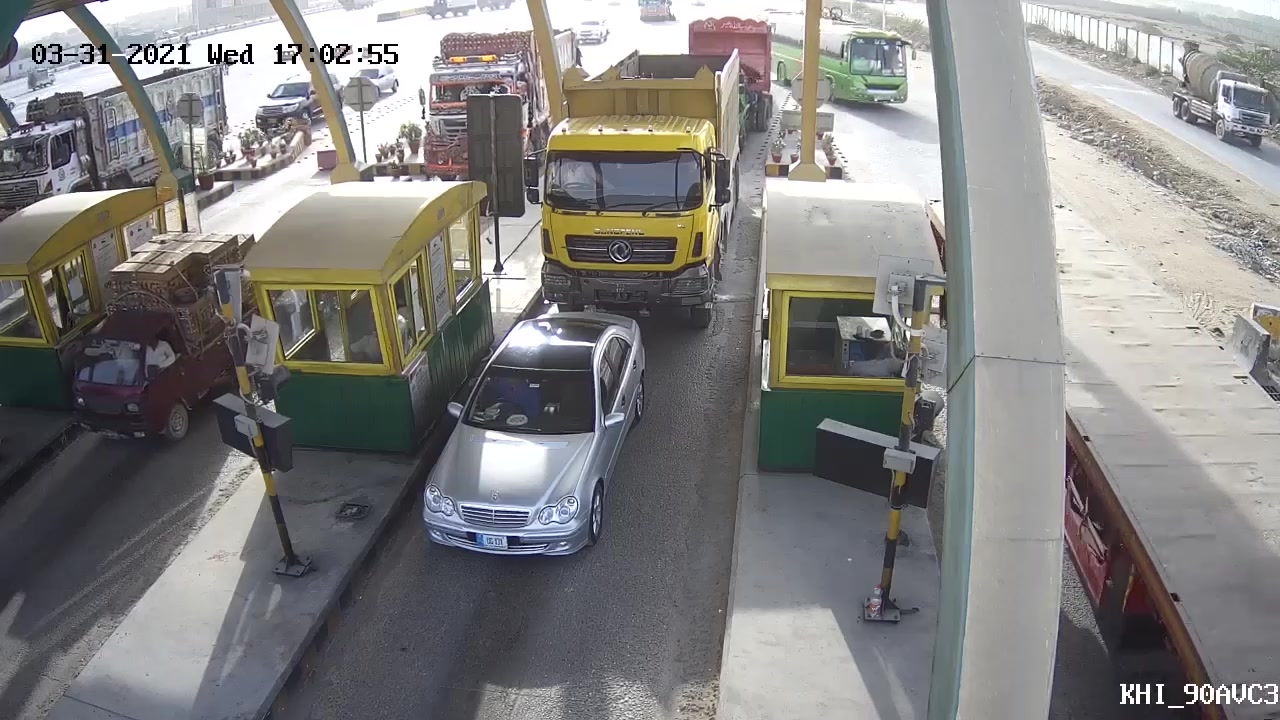F1: (391, 299, 651, 583)
F5: (531, 45, 750, 338)
